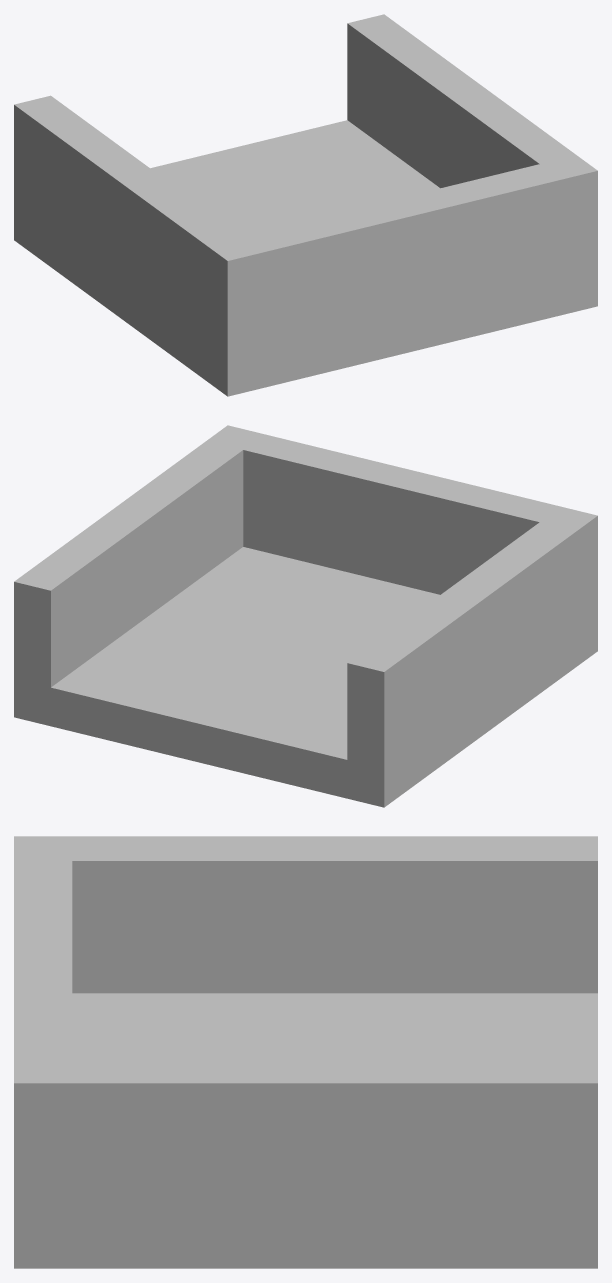
File: MetalRoof_3Edges_Small.glb
The picture shows the model from 3 angles, top to bottom: view 1: azimuth 30°, elevation 25°; view 2: azimuth 150°, elevation 25°; view 3: azimuth 270°, elevation 25°; orthographic projection. The views are drawn at different scales.
Parts seen in each view (by area): view 1: roof_flat_3Edges_small_metal; view 2: roof_flat_3Edges_small_metal; view 3: roof_flat_3Edges_small_metal.
Part boxes in pixels (x1,y1,x2,y2): roof_flat_3Edges_small_metal: (14, 14, 597, 396); roof_flat_3Edges_small_metal: (14, 425, 597, 807); roof_flat_3Edges_small_metal: (14, 836, 597, 1268).
Size of what is drawn, in the model's own units: 2 by 0.7 by 2.
Materials: 1 (1 with a texture image).
